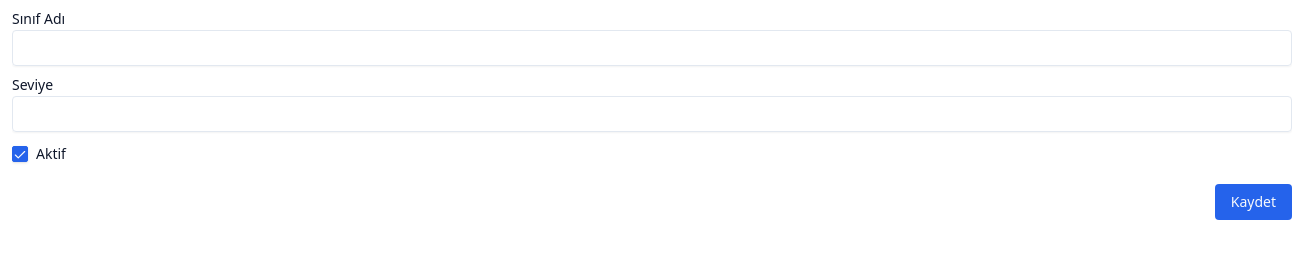
ClassForm › shows required validation errors when submitted empty
The width and height of the screenshot is (1304, 257).
Click the button "Kaydet": [1253, 202] box [1215,184,1292,220]
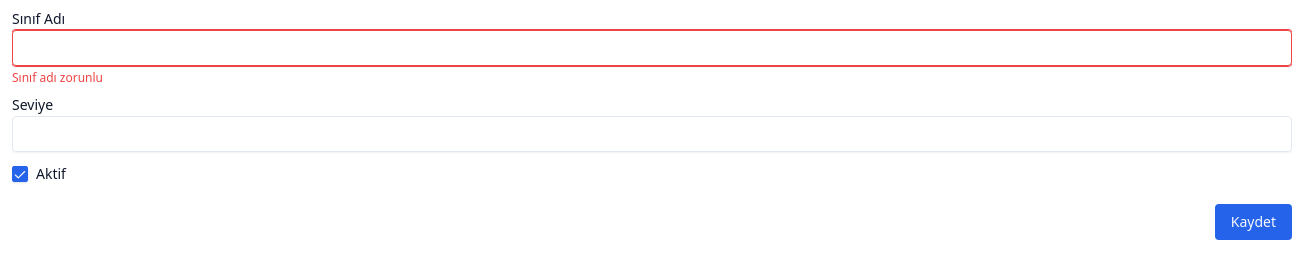
Check: the message "Sınıf adı zorunlu" is shown, box [12,69,103,86]
